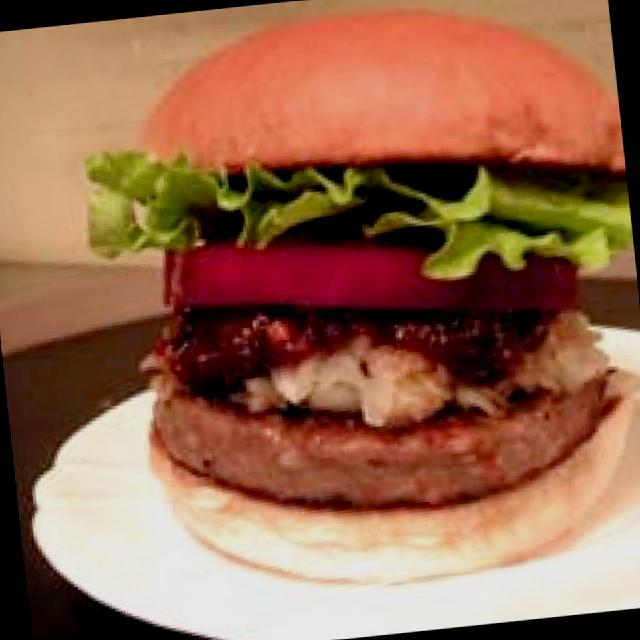Hamburger: (42, 0, 640, 595)
